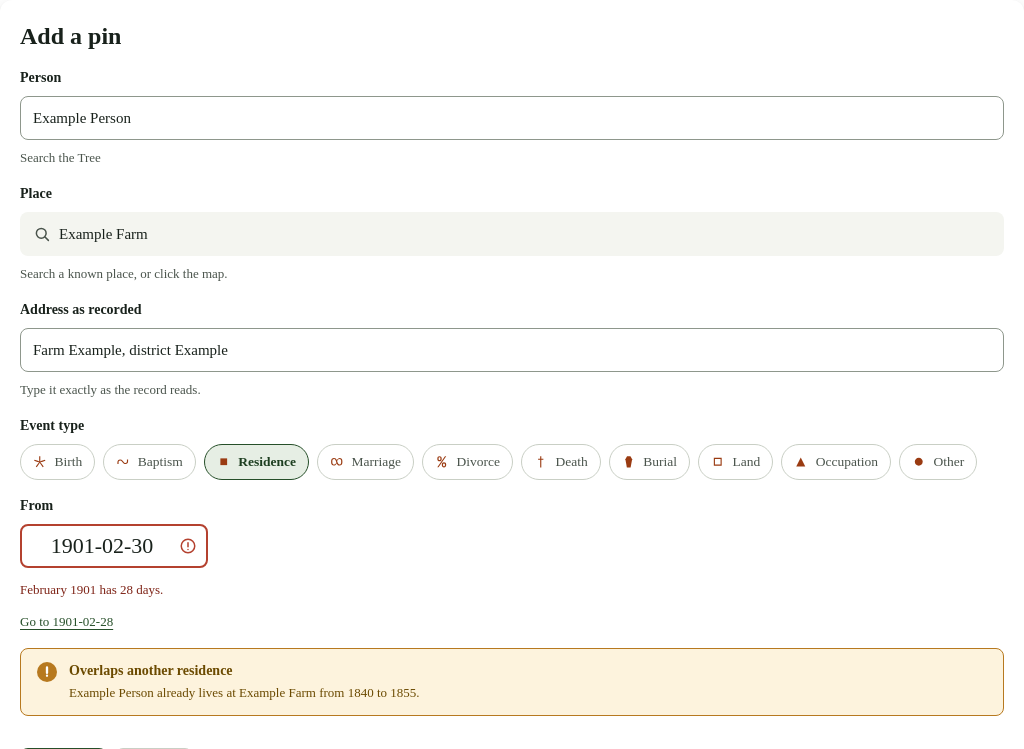
Scenario: on a desktop › clears the error when a good date is typed
The image size is (1024, 749).
Replace the text in the field named "Date shown" with "1902-03-01" at x=114, y=546, box [33,525,195,567]
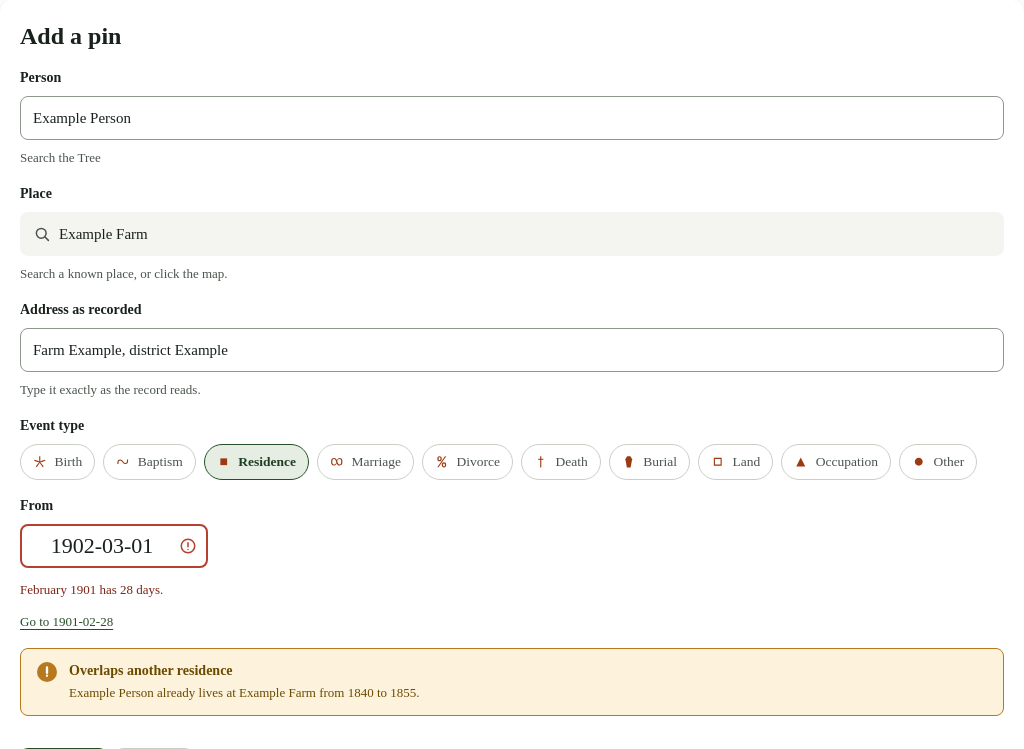
Leave the field named "Date shown", box [33,525,195,567]
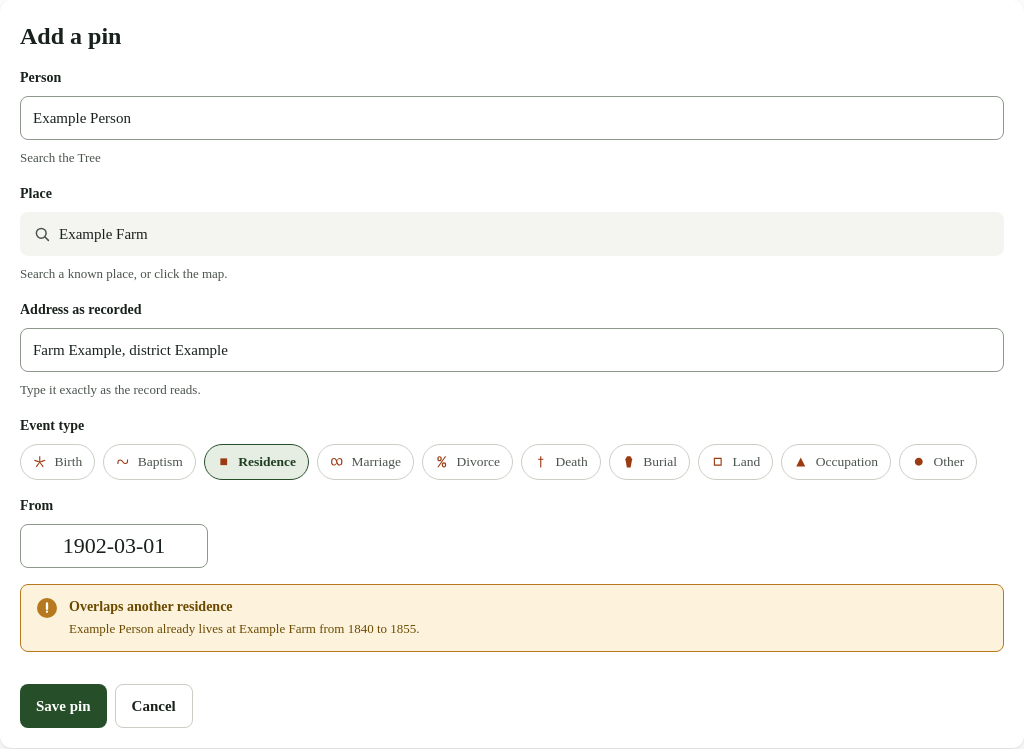
Expected: the message "February 1901 has 28 days." is gone
